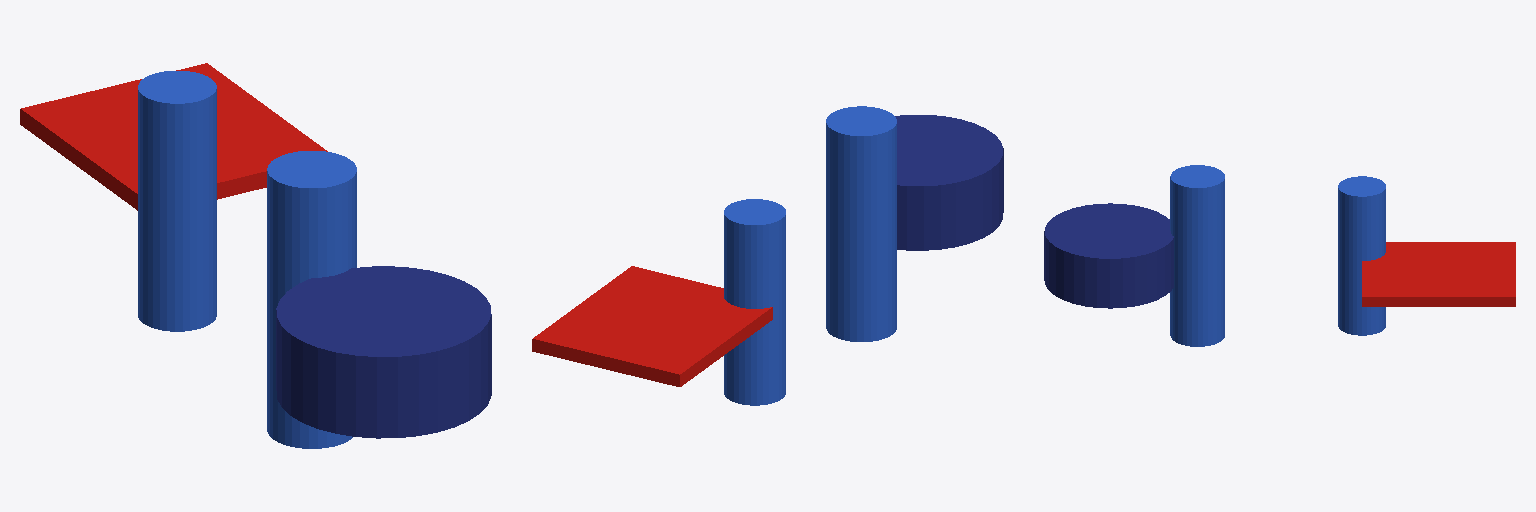
robot.urdf — pingpong_competition_arm:
<?xml version="1.0"?>
<!-- Arm::competition() 에 대응하는 3DOF 예시 URDF (sim 테스트·뷰어용) -->
<!-- 링크 길이: urdf-test 실물 스케일 (합 ≈ 0.38 m) -->
<robot name="pingpong_competition_arm">
  <link name="base_link">
    <visual>
      <origin xyz="0 0 0" rpy="0 0 0"/>
      <geometry><cylinder radius="0.06" length="0.05"/></geometry>
      <material name="base"><color rgba="0.2 0.25 0.55 1"/></material>
    </visual>
  </link>

  <link name="link1">
    <visual>
      <origin xyz="0 0.08 0" rpy="0 0 0"/>
      <geometry><cylinder radius="0.025" length="0.16"/></geometry>
      <material name="blue"><color rgba="0.25 0.45 0.85 1"/></material>
    </visual>
  </link>

  <link name="link2">
    <visual>
      <origin xyz="0 0.07 0" rpy="0 0 0"/>
      <geometry><cylinder radius="0.022" length="0.14"/></geometry>
      <material name="blue2"><color rgba="0.25 0.45 0.85 1"/></material>
    </visual>
  </link>

  <link name="racket_link">
    <visual>
      <origin xyz="0.04 0 0" rpy="0 0 0"/>
      <geometry><box size="0.12 0.14 0.010"/></geometry>
      <material name="red"><color rgba="0.85 0.15 0.12 1"/></material>
    </visual>
  </link>

  <joint name="joint_yaw" type="revolute">
    <parent link="base_link"/>
    <child link="link1"/>
    <origin xyz="0 0 0" rpy="0 0 0"/>
    <axis xyz="0 1 0"/>
    <limit lower="-1.2" upper="1.2" effort="10" velocity="2.5"/>
  </joint>

  <joint name="joint_shoulder" type="revolute">
    <parent link="link1"/>
    <child link="link2"/>
    <origin xyz="0 0.16 0" rpy="0 0 0"/>
    <axis xyz="0 0 1"/>
    <limit lower="-0.2" upper="1.4" effort="10" velocity="2.5"/>
  </joint>

  <joint name="joint_elbow" type="revolute">
    <parent link="link2"/>
    <child link="racket_link"/>
    <origin xyz="0 0.14 0" rpy="0 0 0"/>
    <axis xyz="0 0 1"/>
    <limit lower="-1.5" upper="0.5" effort="10" velocity="2.5"/>
  </joint>
</robot>

--- Render facts (derived) ---
Views: 3 orthographic renders of the robot side by side, from view 1: azimuth 30°, elevation 25°; view 2: azimuth 150°, elevation 25°; view 3: azimuth 270°, elevation 25°.
Robot: pingpong_competition_arm — 4 links, 3 joints (3 revolute); root link base_link; default pose: all joints at 0.
Visible links, largest first — view 1: base_link, link2, racket_link, link1; view 2: racket_link, link1, base_link, link2; view 3: base_link, racket_link, link1, link2.
Boxes of the visible links, bbox=[...] form: base_link: bbox=[276, 266, 491, 438]; link2: bbox=[138, 71, 216, 331]; racket_link: bbox=[20, 63, 327, 210]; link1: bbox=[267, 151, 356, 448]; racket_link: bbox=[532, 266, 772, 386]; link1: bbox=[826, 106, 896, 341]; base_link: bbox=[895, 115, 1003, 250]; link2: bbox=[724, 199, 785, 405]; base_link: bbox=[1044, 203, 1173, 308]; racket_link: bbox=[1362, 242, 1515, 306]; link1: bbox=[1170, 165, 1224, 346]; link2: bbox=[1338, 176, 1385, 335].
Bounding box of the posed robot: 0.16 × 0.43 × 0.16 m (x, y, z).
Geometry: primitives only (box / cylinder / sphere), no mesh files.
